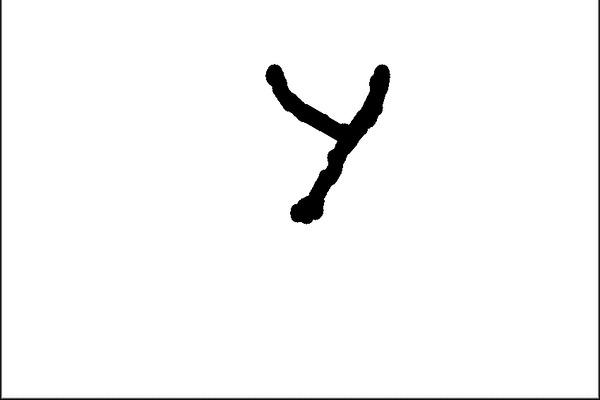Y: (247, 45, 398, 238)
